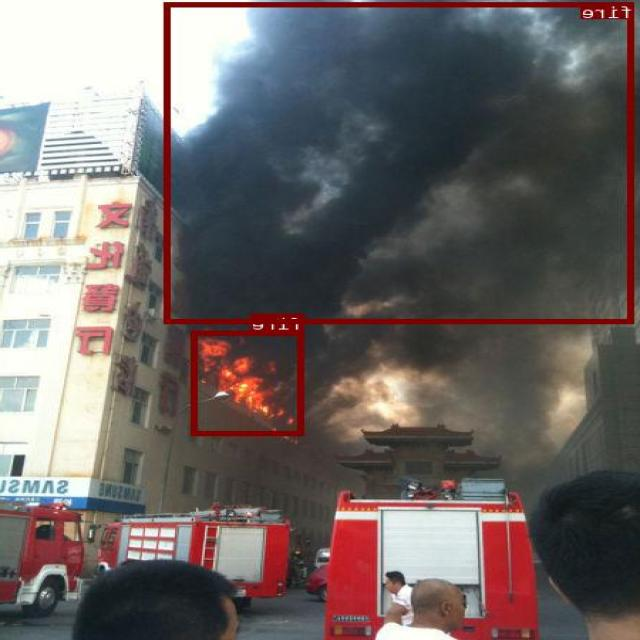fire: (165, 2, 635, 323), (192, 330, 304, 434)
